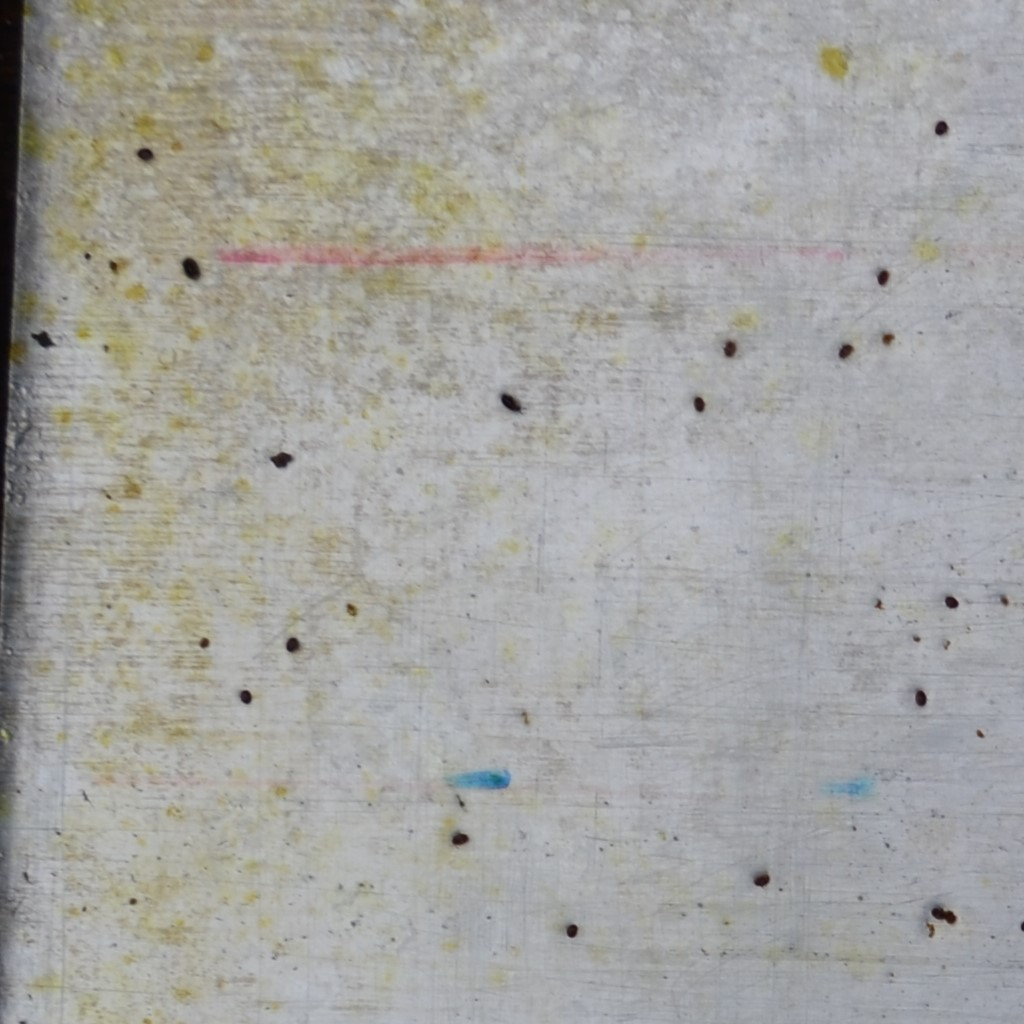varroa: (498, 388, 522, 415), (180, 254, 201, 281), (270, 448, 292, 469), (836, 340, 855, 364), (751, 867, 771, 889), (450, 828, 471, 848), (721, 337, 740, 358), (134, 145, 156, 163), (930, 901, 946, 925), (283, 636, 302, 656), (913, 686, 929, 709), (875, 265, 891, 288), (942, 595, 959, 614), (566, 919, 579, 941), (943, 907, 957, 927), (934, 118, 948, 138), (882, 329, 895, 350), (238, 686, 253, 704), (693, 395, 705, 411)
